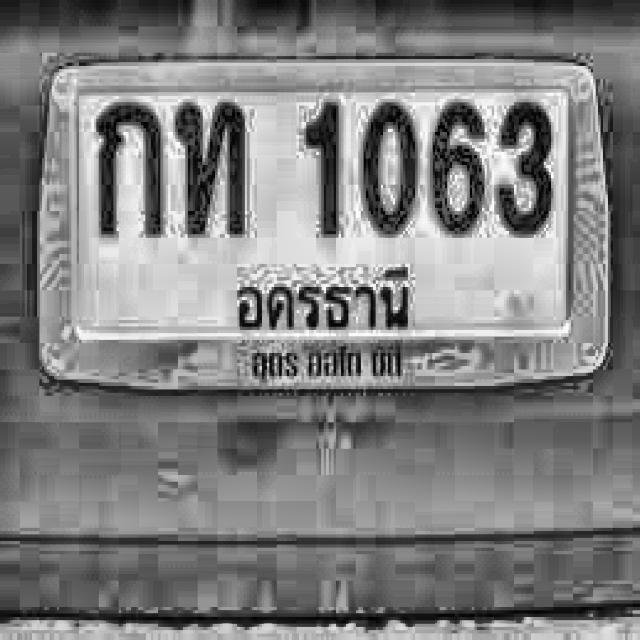license-plate: (35, 33, 617, 428)
